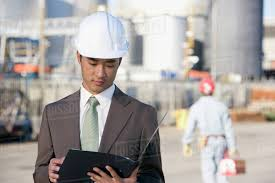Person_wearing_helmet: (71, 11, 128, 68)
